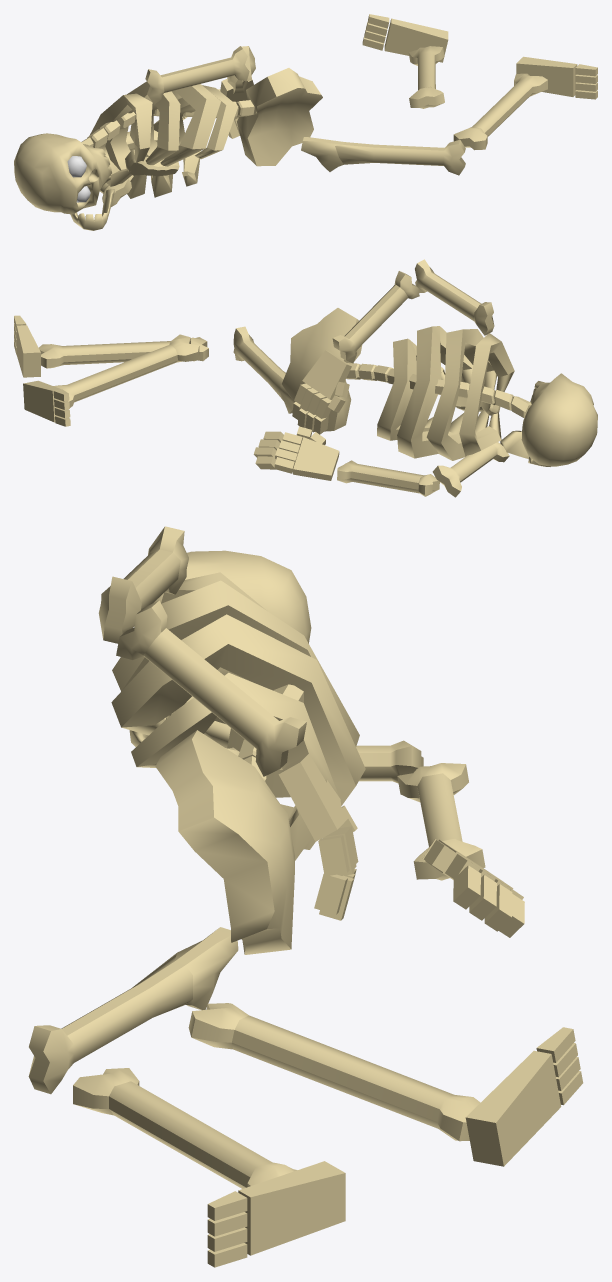
The model's file is skeleton_DEAD_explode.fbx.
3 views of the same model, one above another, from view 1: azimuth 30°, elevation 25°; view 2: azimuth 150°, elevation 25°; view 3: azimuth 270°, elevation 25° (orthographic). The views are drawn at different scales.
Visible parts, largest first — view 1: chest, skull, pelvis, tibiaL, footR, upperarmR, footL, forearmR2, fibiaR, skeleton_standard_upper_spine, jaw, handR (+3 smaller); view 2: chest, skull, pelvis, handL, handR, fibiaR, forearmR2, forearmR, upperarmR, forearmL, skeleton_standard_upper_spine, tibiaL (+4 smaller); view 3: chest, pelvis, fibiaR, tibiaL, footL, forearmR, forearmR2, footR, handR, skull, upperarmR, forearmL (+2 smaller).
Boxes of the visible parts, left/top/right/bottom form: chest: left=89, top=81, right=238, bottom=198; skull: left=14, top=133, right=111, bottom=214; pelvis: left=237, top=68, right=322, bottom=166; tibiaL: left=301, top=137, right=465, bottom=175; footR: left=362, top=14, right=448, bottom=62; upperarmR: left=145, top=46, right=249, bottom=104; footL: left=516, top=56, right=597, bottom=99; forearmR2: left=453, top=73, right=547, bottom=150; fibiaR: left=408, top=46, right=444, bottom=108; skeleton_standard_upper_spine: left=81, top=100, right=257, bottom=147; jaw: left=70, top=189, right=114, bottom=230; handR: left=220, top=79, right=253, bottom=138; chest: left=377, top=326, right=514, bottom=460; skull: left=521, top=373, right=597, bottom=466; pelvis: left=282, top=308, right=362, bottom=432; handL: left=253, top=426, right=339, bottom=480; handR: left=292, top=350, right=351, bottom=434; fibiaR: left=53, top=334, right=199, bottom=407; forearmR2: left=39, top=337, right=208, bottom=368; forearmR: left=332, top=271, right=419, bottom=363; upperarmR: left=415, top=259, right=494, bottom=335; forearmL: left=337, top=460, right=439, bottom=496; skeleton_standard_upper_spine: left=346, top=363, right=531, bottom=417; tibiaL: left=233, top=326, right=294, bottom=413; chest: left=111, top=572, right=365, bottom=860; pelvis: left=155, top=730, right=294, bottom=954; fibiaR: left=188, top=1003, right=480, bottom=1141; tibiaL: left=28, top=927, right=238, bottom=1094; footL: left=207, top=1161, right=345, bottom=1267; forearmR: left=116, top=600, right=306, bottom=776; forearmR2: left=73, top=1068, right=297, bottom=1188; footR: left=465, top=1027, right=583, bottom=1166; handR: left=278, top=753, right=358, bottom=920; skull: left=134, top=550, right=311, bottom=683; upperarmR: left=98, top=526, right=188, bottom=643; forearmL: left=397, top=763, right=485, bottom=880.
Size of the model in its own units: 177 by 48.15 by 74.17.
